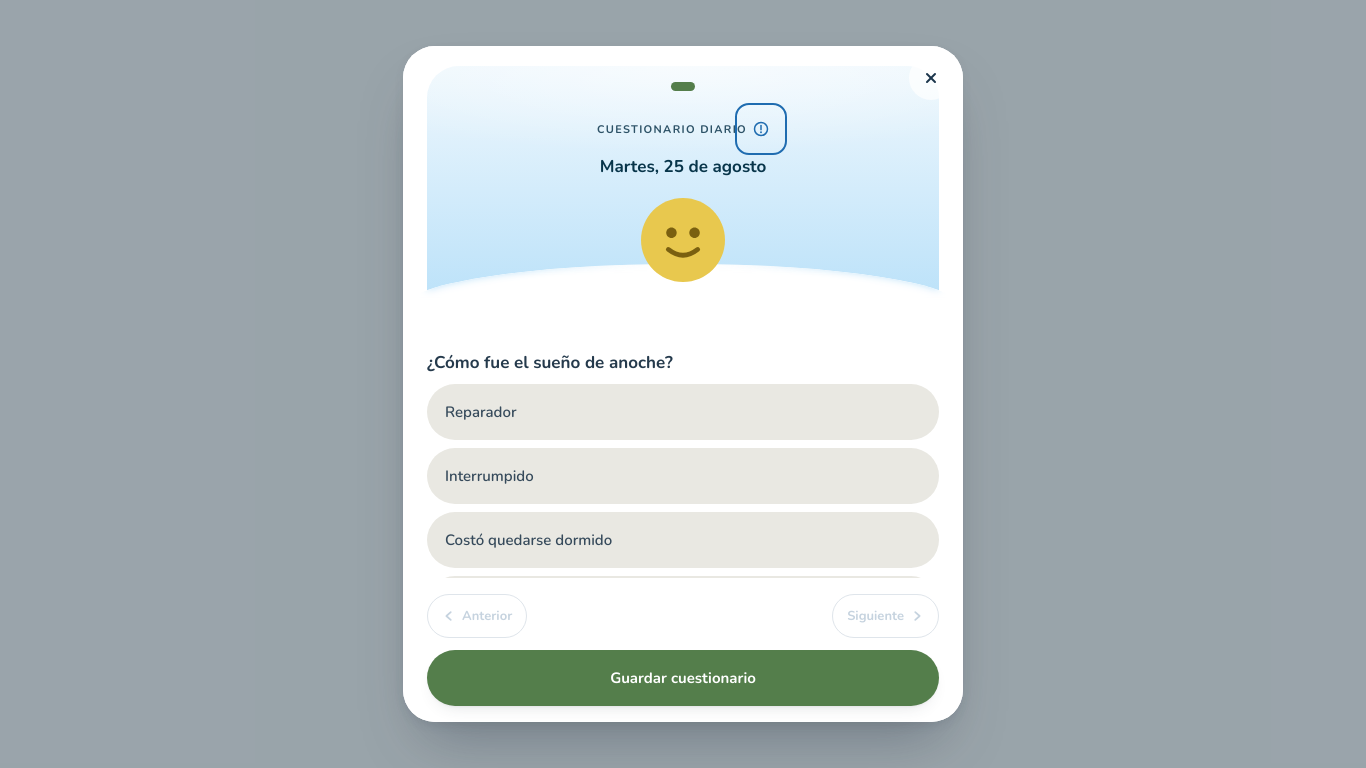
Test case: DialogoCuestionario › envía el día con su fecha y guarda lo enviado
The image size is (1366, 768).
Click the button "Reparador": (481, 412) x1=427 y1=384 x2=939 y2=440
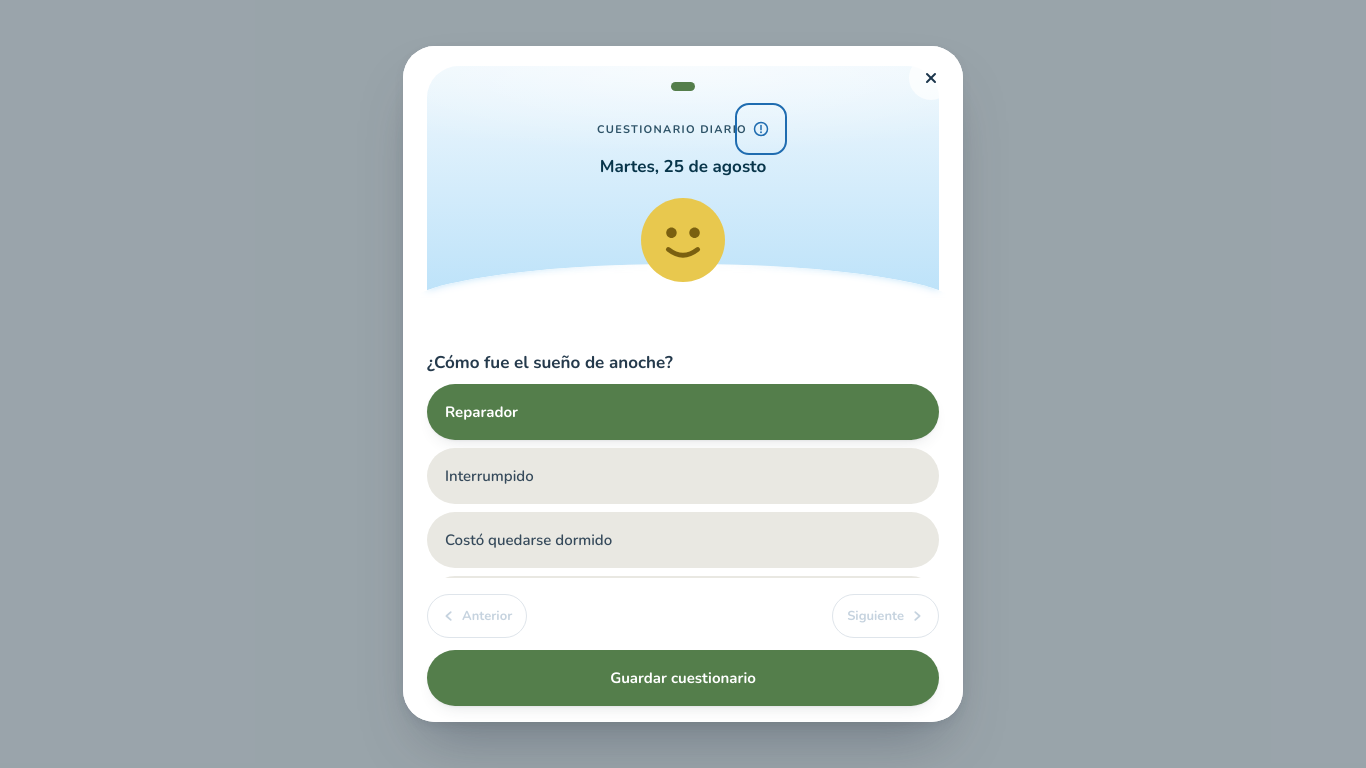
Click the button with class "boton--principal": (683, 678) x1=427 y1=650 x2=939 y2=706
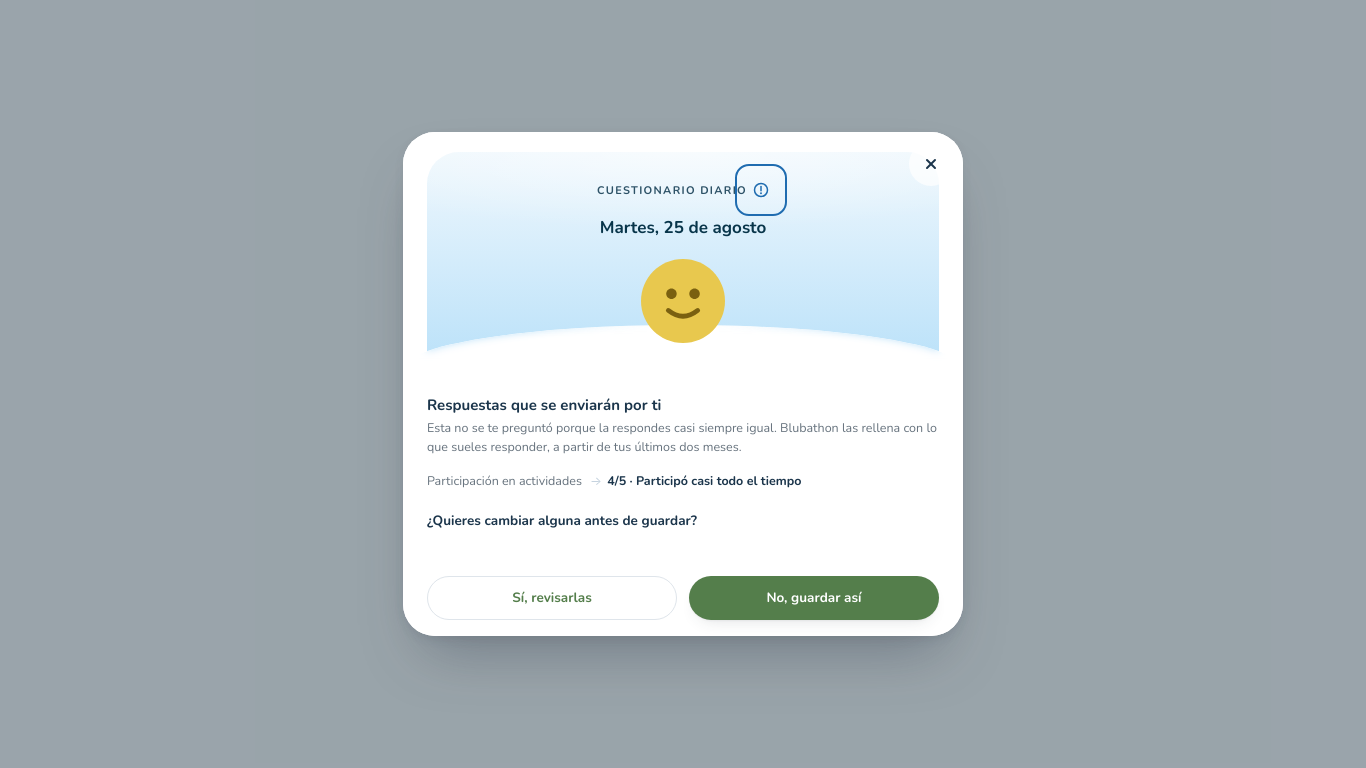
Click the button with class "boton--principal": (814, 598) x1=689 y1=576 x2=939 y2=620
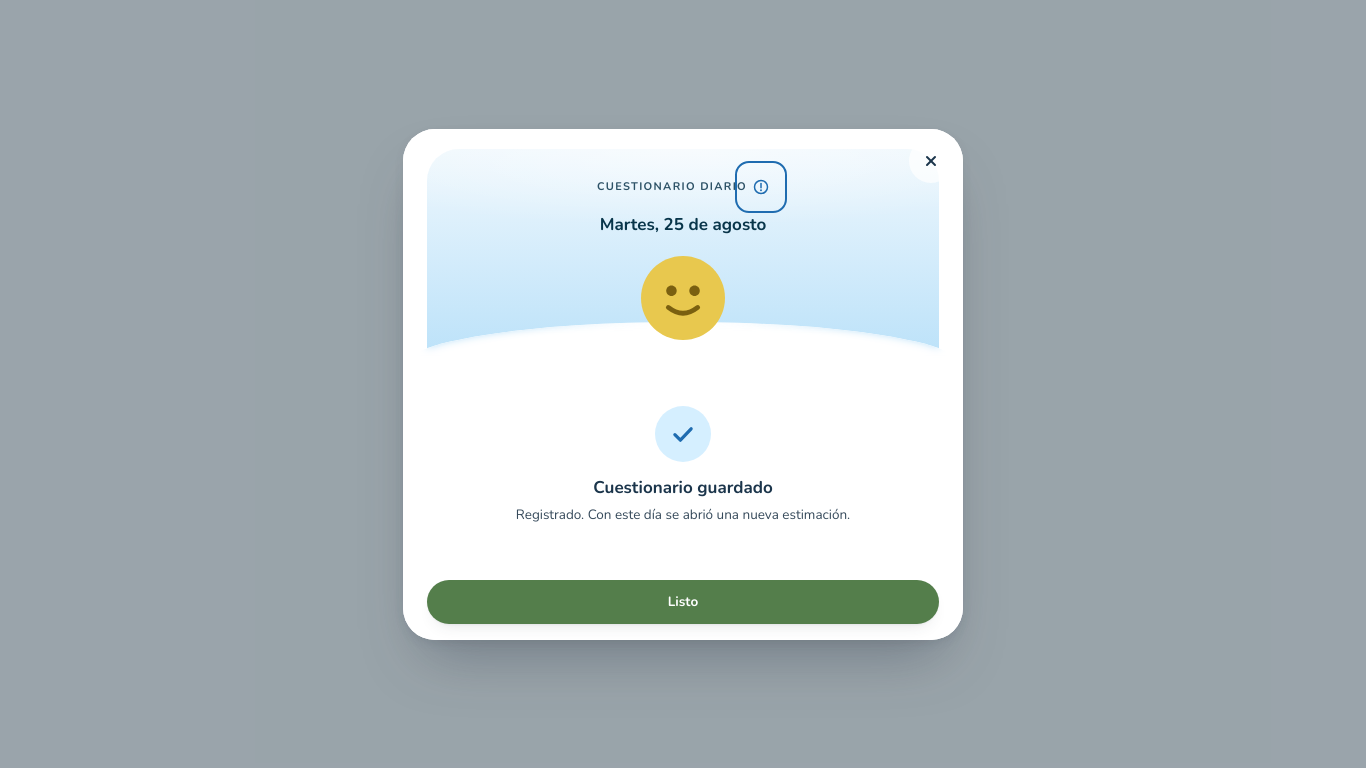
Now the text "Cuestionario guardado" is shown, box x1=593 y1=476 x2=773 y2=498
